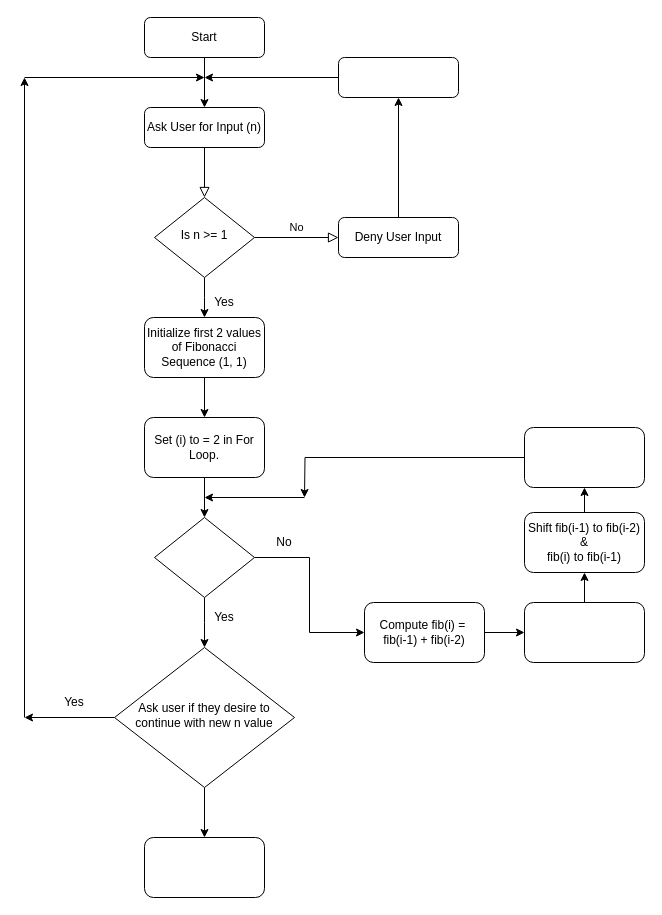
This 662x915 diagram has some shape labels left out. Each missing label, with the box of its shape:
End: (144, 836, 264, 898)
i = i+1: (524, 426, 644, 488)
is i >= n: (154, 516, 254, 598)
Print error message: (338, 56, 458, 98)
Print fib(i): (524, 602, 644, 662)
